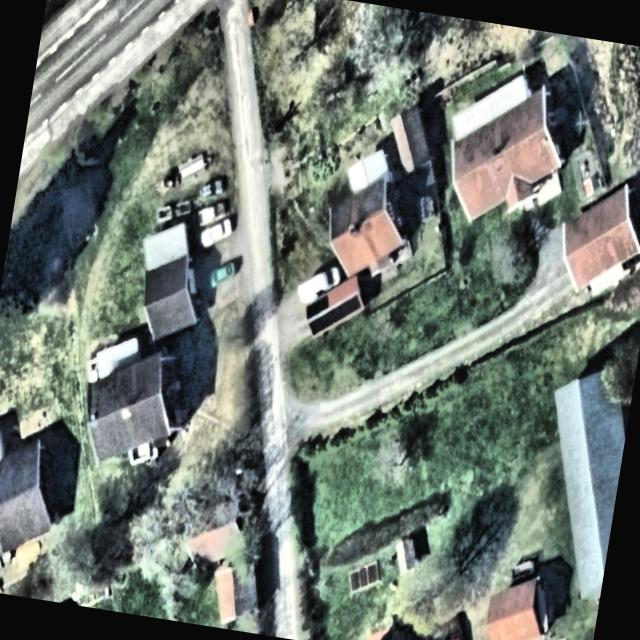roof_pv: (328, 289, 367, 329), (307, 308, 336, 339)
